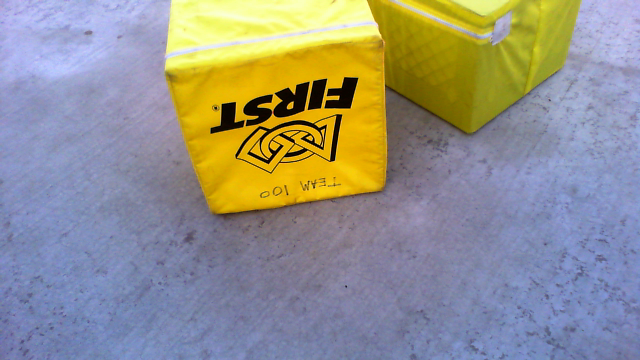cube: (165, 1, 387, 216), (364, 1, 582, 134)
